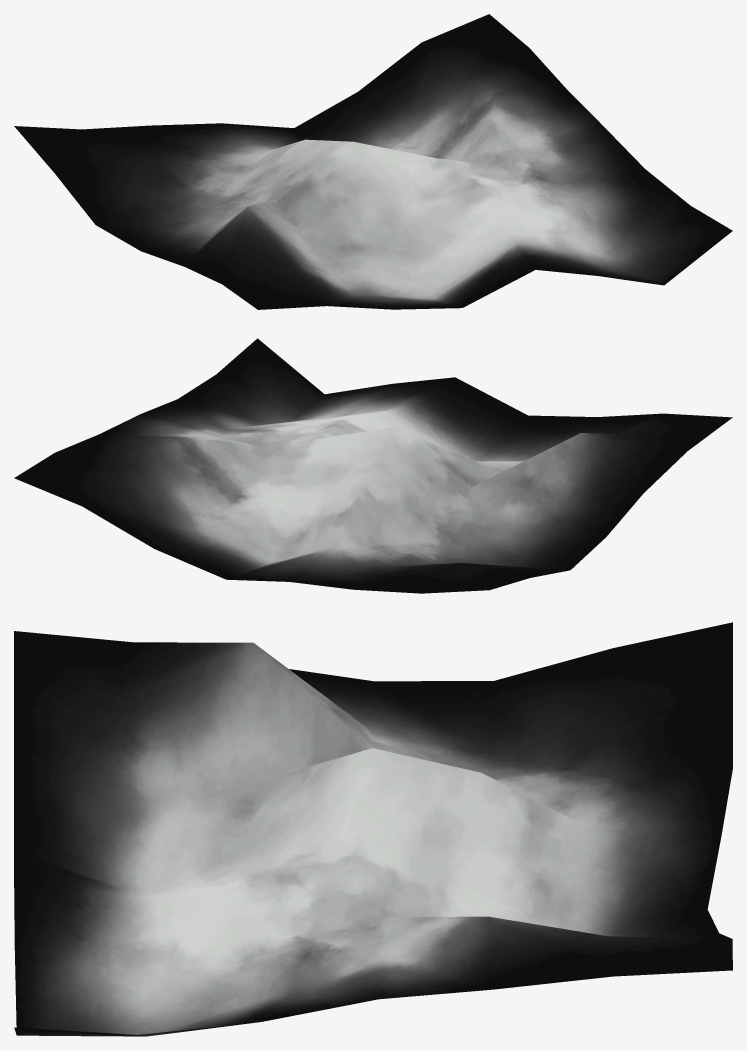
File: mianpian02.FBX
The picture shows the model from 3 angles, top to bottom: view 1: azimuth 30°, elevation 25°; view 2: azimuth 150°, elevation 25°; view 3: azimuth 270°, elevation 25°; orthographic projection. The views are drawn at different scales.
Parts seen in each view (by area): view 1: Plane001; view 2: Plane001; view 3: Plane001.
Part boxes in pixels (x1,y1,x2,y2): Plane001: (14,14,732,309); Plane001: (14,338,732,593); Plane001: (14,622,732,1036).
Bounding box in the file's own units: 43.66 × 9.12 × 38.75.
